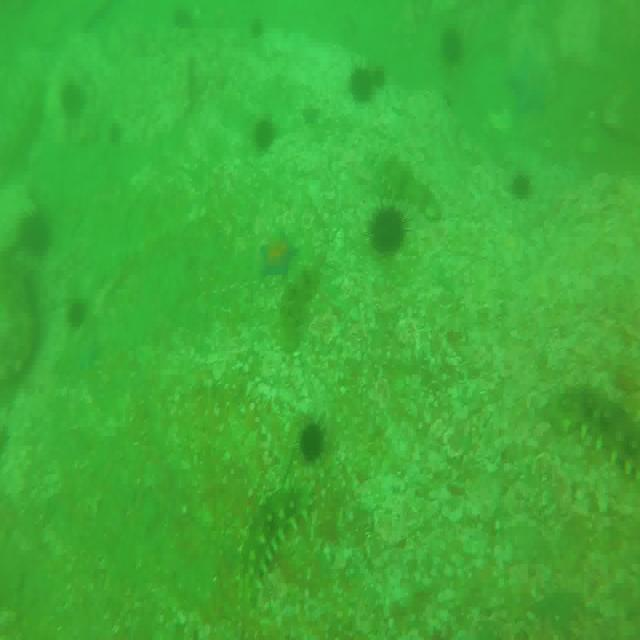echinus: (372, 210, 408, 255), (21, 207, 52, 257), (298, 418, 327, 456), (350, 63, 373, 105), (254, 115, 279, 152), (60, 82, 86, 116), (368, 57, 390, 93), (441, 29, 463, 64), (511, 168, 533, 196), (68, 303, 88, 330)
holothurian: (546, 382, 640, 482), (238, 479, 311, 606), (376, 157, 442, 222)
starfish: (511, 49, 552, 116), (260, 232, 297, 282), (300, 103, 320, 125)
